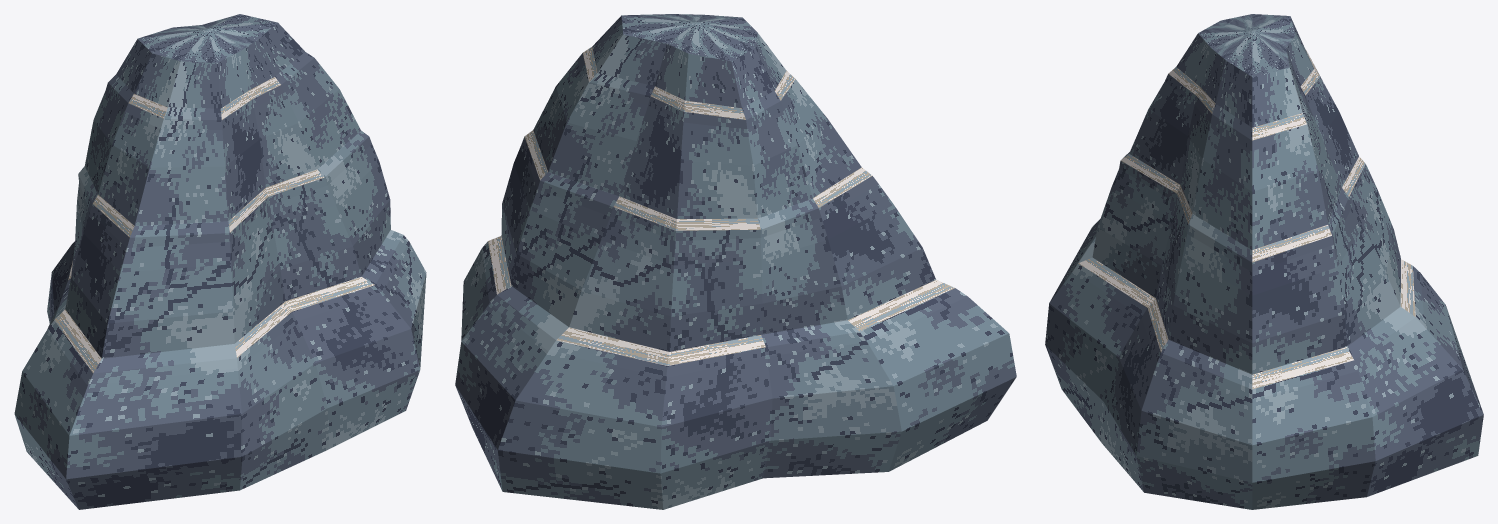
The model's file is TER-01_Roca_de_marea_b.gltf.
The picture shows the model from 3 angles, left to right: view 1: azimuth 30°, elevation 25°; view 2: azimuth 150°, elevation 25°; view 3: azimuth 270°, elevation 25°; orthographic projection. The views are drawn at different scales.
Parts seen in each view (by area): view 1: TER-01_Roca_de_marea_b; view 2: TER-01_Roca_de_marea_b; view 3: TER-01_Roca_de_marea_b.
Boxes of the visible parts, x1,y1,x2,y2 form: TER-01_Roca_de_marea_b: [14, 14, 426, 509]; TER-01_Roca_de_marea_b: [455, 14, 1016, 509]; TER-01_Roca_de_marea_b: [1045, 14, 1483, 509].
Size of what is drawn, in the model's own units: 2.25 by 1.85 by 1.89.
2 materials, 2 textured.
